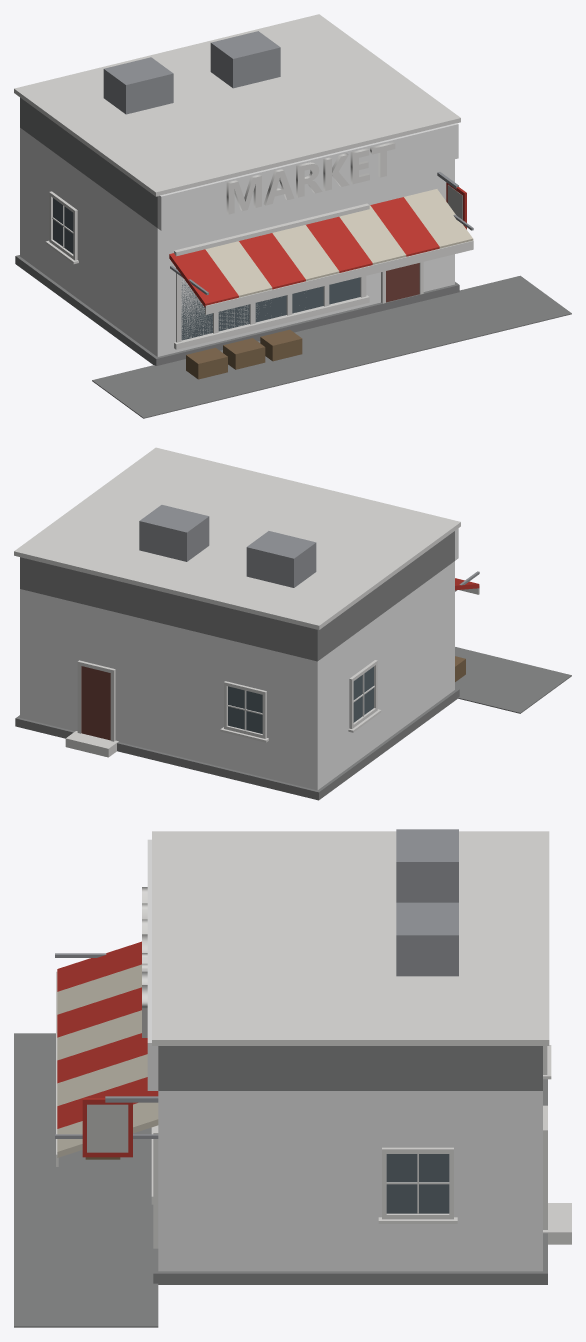
The model's file is city_store.fbx.
The picture shows the model from 3 angles, top to bottom: view 1: azimuth 30°, elevation 25°; view 2: azimuth 150°, elevation 25°; view 3: azimuth 270°, elevation 25°; orthographic projection. The views are drawn at different scales.
Parts seen in each view (by area): view 1: trim_1, brickpale_1, concrete_1, red_1, cream_1, steel_1, glassshop_1, timber_1, door_1; view 2: brickpale_1, trim_1, concrete_1, steel_1, glassshop_1, door_1; view 3: trim_1, brickpale_1, concrete_1, steel_1, red_1, cream_1, glassshop_1, signlit_1.
Part boxes in pixels (x1,y1,x2,y2): trim_1: [14, 14, 473, 349]; brickpale_1: [20, 123, 458, 356]; concrete_1: [15, 97, 571, 418]; red_1: [169, 182, 466, 307]; cream_1: [205, 189, 473, 297]; steel_1: [103, 31, 473, 294]; glassshop_1: [53, 198, 360, 340]; timber_1: [186, 329, 302, 379]; door_1: [386, 263, 419, 302]; brickpale_1: [20, 528, 458, 790]; trim_1: [14, 447, 479, 757]; concrete_1: [15, 531, 571, 800]; steel_1: [139, 505, 479, 591]; glassshop_1: [228, 666, 373, 733]; door_1: [81, 666, 110, 740]; trim_1: [56, 831, 571, 1248]; brickpale_1: [147, 839, 542, 1271]; concrete_1: [14, 1033, 547, 1327]; steel_1: [55, 829, 458, 1138]; red_1: [57, 941, 158, 1157]; cream_1: [57, 964, 158, 1157]; glassshop_1: [386, 1154, 449, 1213]; signlit_1: [87, 1104, 128, 1152].
Bounding box in the file's own units: 1.44 × 0.6575 × 1.16.
